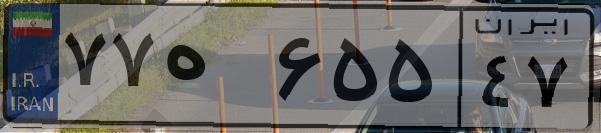4: (475, 38, 525, 113)
5: (385, 28, 445, 110), (330, 28, 385, 110)
6: (270, 28, 330, 110)
7: (57, 26, 110, 100), (525, 38, 570, 115), (110, 28, 158, 98)
ه: (158, 20, 270, 120)
